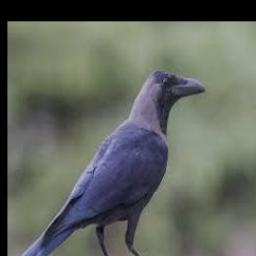Crow: (15, 69, 204, 256)
